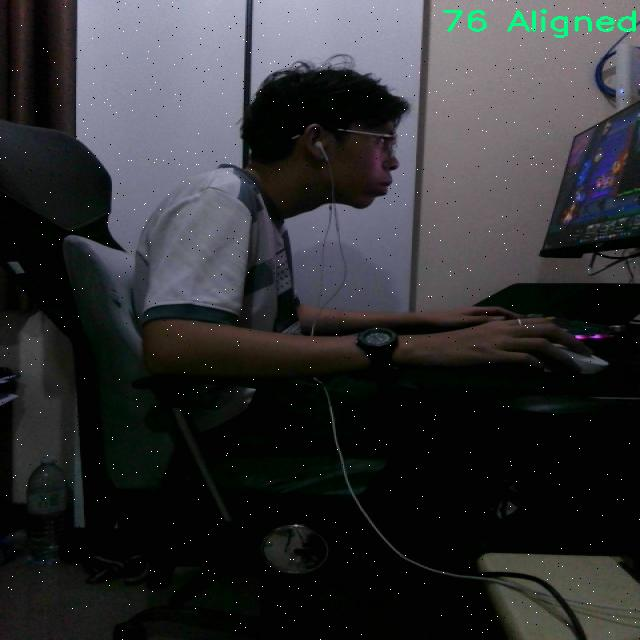Bad: (134, 58, 456, 380)
